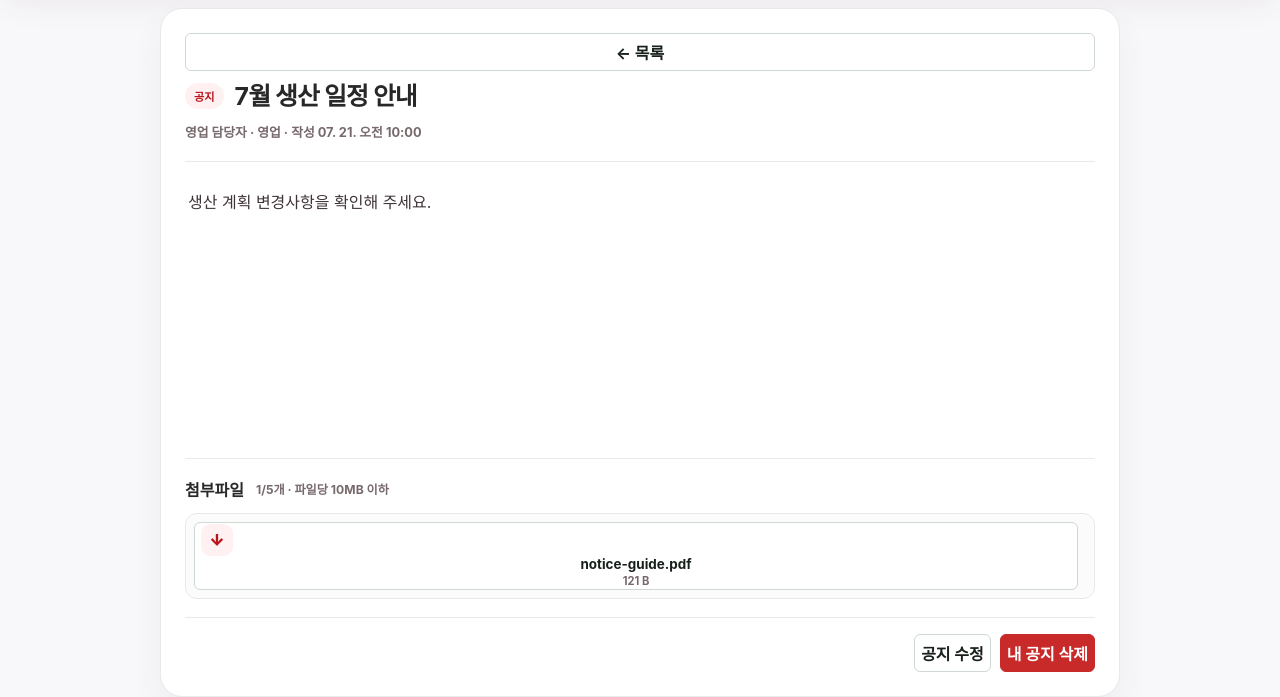
Test case: NoticeBoardPage › shows attachment management only after the author opens notice editing
(page scrolled)
Expected: the button "↓ notice-guide.pdf 121 B" is shown, top-left (194, 522), bottom-right (1078, 590)
Expected: the button "제거" is not shown
Click the button "공지 수정": (952, 653) top-left (914, 634), bottom-right (991, 672)
(page scrolled)
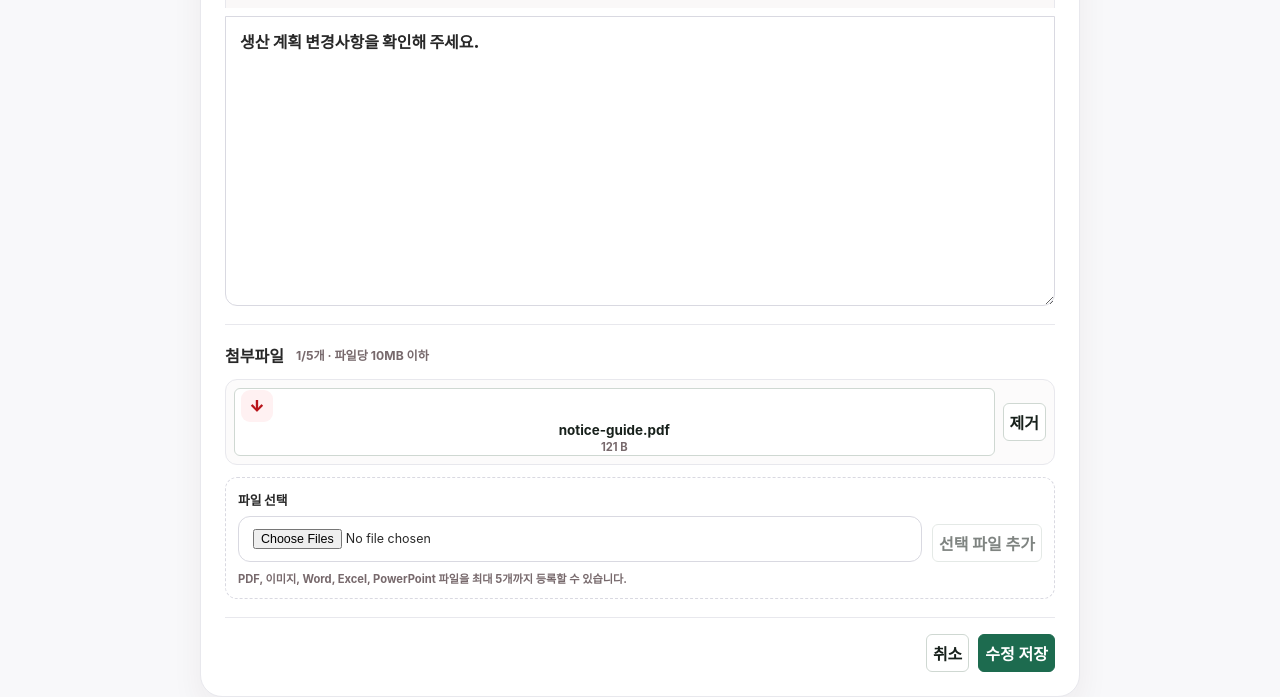
Expected: the button "제거" is shown, top-left (1002, 403), bottom-right (1046, 441)
Expected: the text "PDF, 이미지, Word, Excel, PowerPoint 파일을 최대 5개까지 등록할 수 있습니다." is shown, top-left (238, 572), bottom-right (627, 586)
